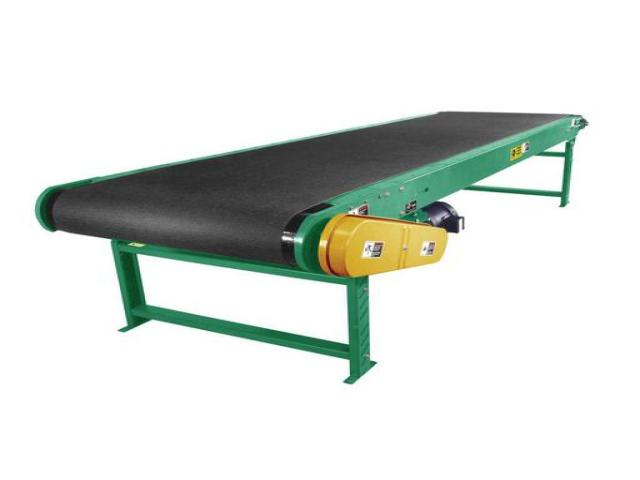conveyor: (28, 106, 600, 340)
